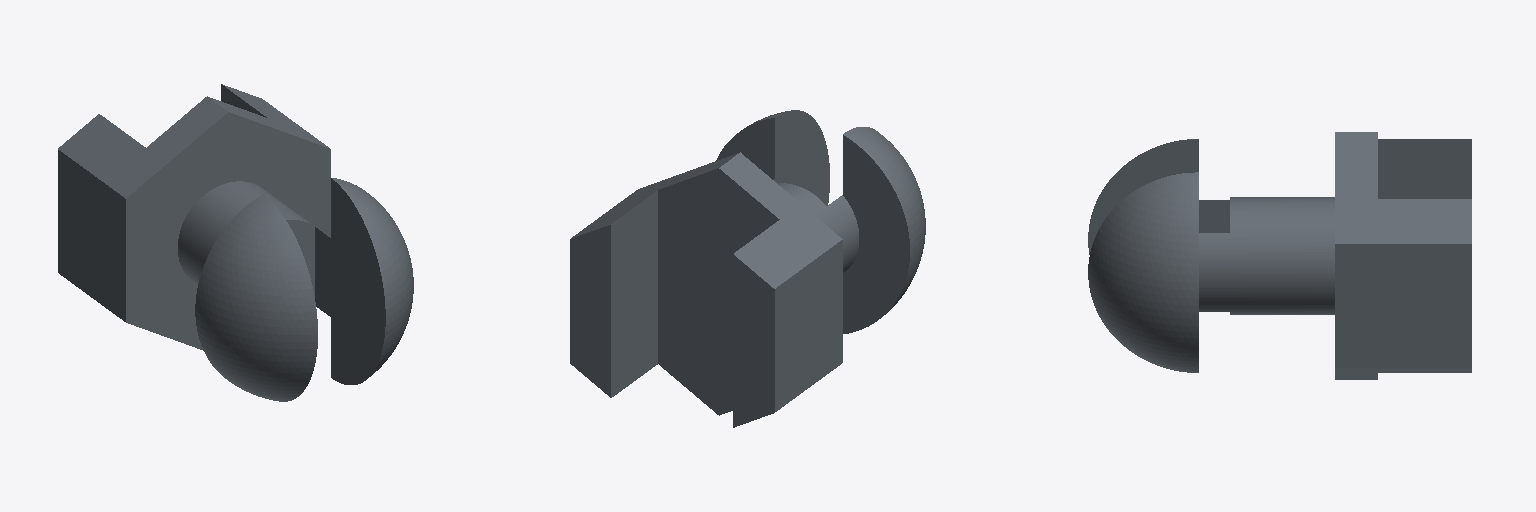
Rendered from DZ2-Тело.obj.
The picture shows the model from 3 angles: view 1: azimuth 30°, elevation 25°; view 2: azimuth 150°, elevation 25°; view 3: azimuth 270°, elevation 25°; orthographic projection.
Parts seen in each view (by area): view 1: Тело; view 2: Тело; view 3: Тело.
Boxes of the visible parts, x1,y1,x2,y2 form: Тело: [58, 84, 413, 401]; Тело: [570, 110, 925, 427]; Тело: [1088, 132, 1471, 379].
Size of the model in its own units: 60.62 by 70 by 98.28.